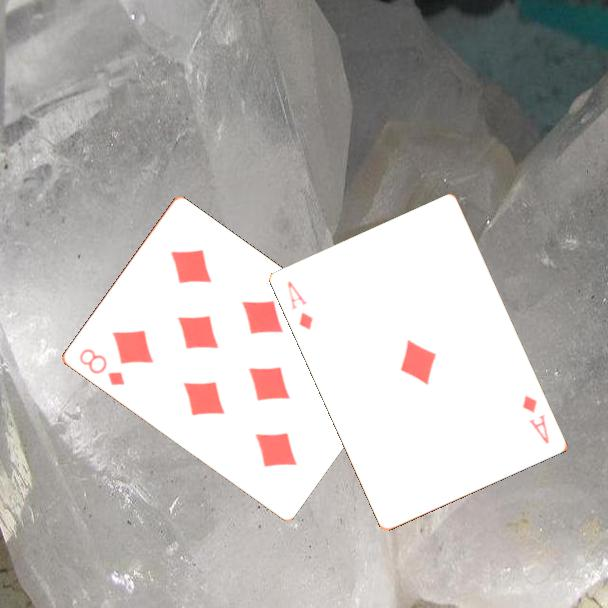d01: (519, 391, 552, 447), (284, 278, 316, 333)
d08: (75, 345, 127, 389)
